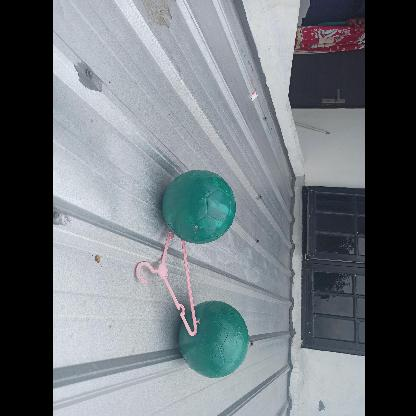green_ball: (175, 302, 252, 380), (161, 169, 237, 245)
